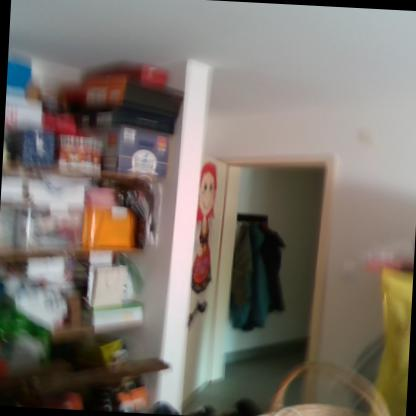open: (172, 145, 344, 415)
